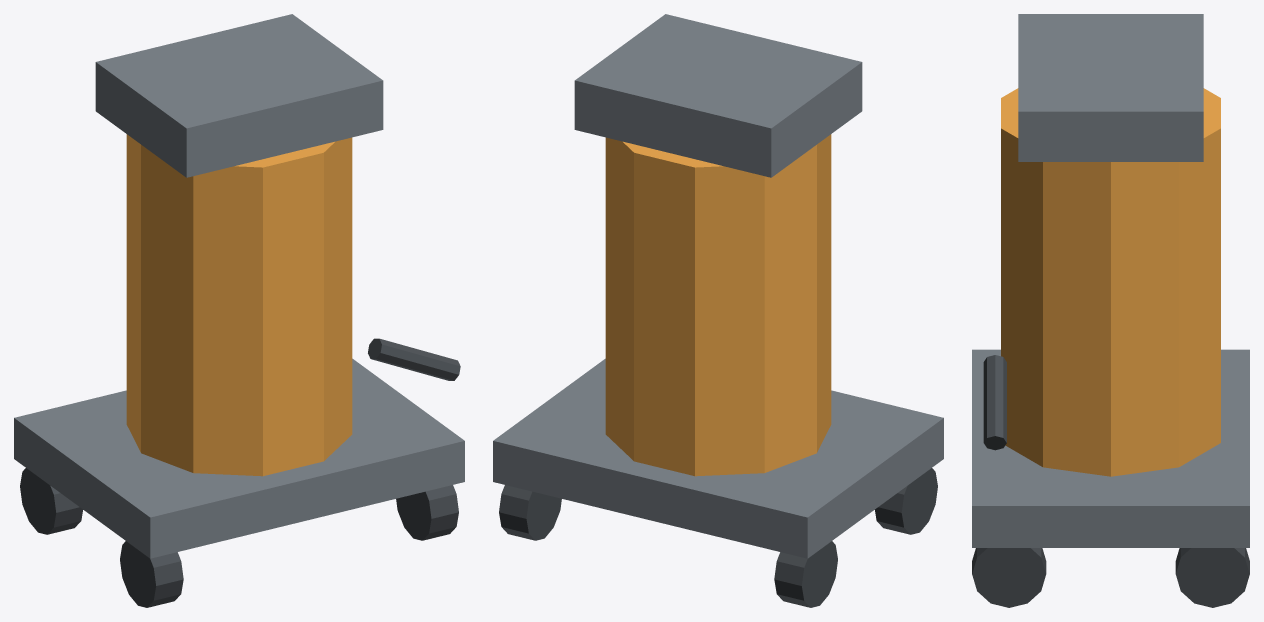
File: mech-hangar-and-battle-frames-fuel-bowser-362ec81d__26960.glb
The picture shows the model from 3 angles, left to right: view 1: azimuth 30°, elevation 25°; view 2: azimuth 150°, elevation 25°; view 3: azimuth 270°, elevation 25°; orthographic projection.
Visible parts, largest first — view 1: fuel-bowser; view 2: fuel-bowser; view 3: fuel-bowser.
Part boxes in pixels (bbox=[...]): fuel-bowser: bbox=[14, 14, 464, 607]; fuel-bowser: bbox=[493, 14, 943, 607]; fuel-bowser: bbox=[972, 14, 1249, 607].
Bounding box in the file's own units: 0.8112 × 1.12 × 0.6001.
